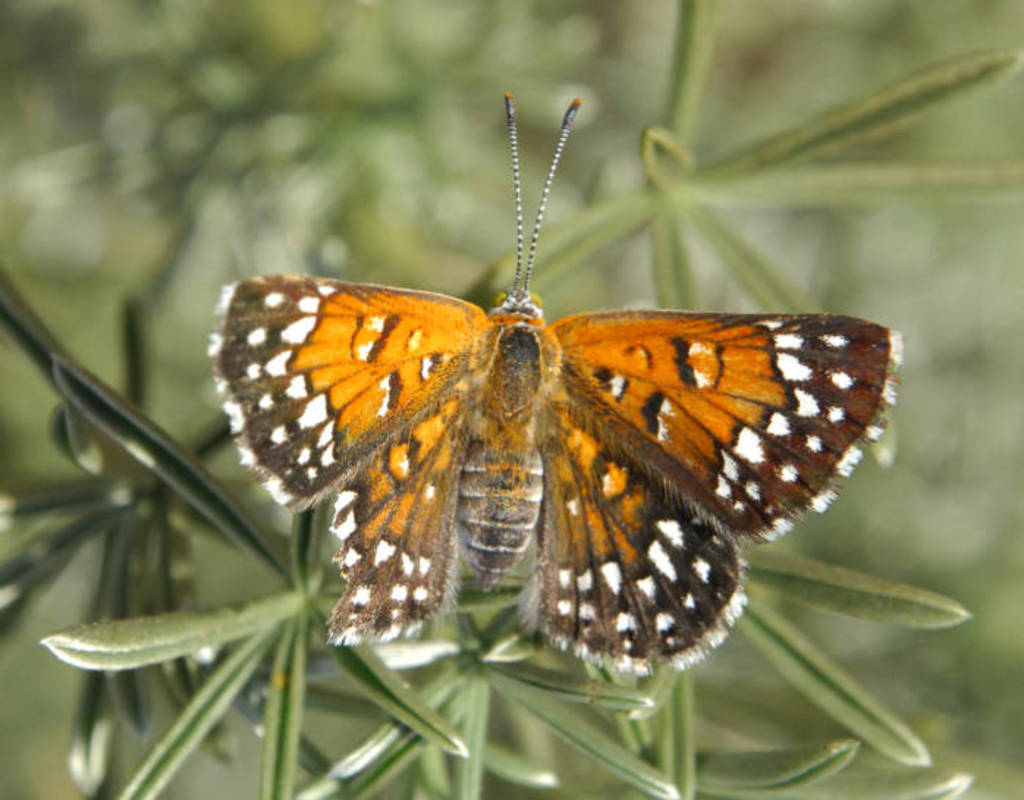Butterfly: (185, 215, 925, 669)
